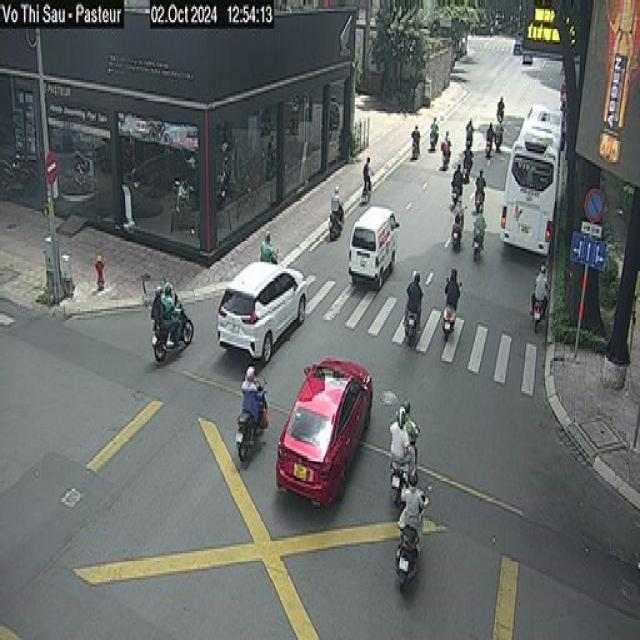bus: (498, 102, 562, 256)
car: (275, 356, 373, 506), (216, 260, 308, 362)
motorcycle: (388, 526, 438, 587), (150, 296, 194, 362), (235, 380, 267, 462), (382, 458, 419, 491), (441, 280, 461, 338), (530, 280, 549, 333), (324, 212, 349, 245), (402, 302, 418, 344), (447, 184, 466, 219), (447, 219, 465, 253), (458, 160, 478, 190), (470, 190, 490, 220), (471, 225, 484, 262), (478, 134, 495, 158), (437, 149, 452, 176), (426, 136, 443, 156), (489, 132, 505, 152), (495, 116, 510, 136), (408, 141, 422, 158), (464, 134, 478, 151)
person: (396, 469, 429, 555), (240, 364, 262, 434), (161, 282, 181, 347), (403, 269, 422, 333), (152, 284, 172, 342), (402, 399, 418, 469), (394, 406, 410, 473), (535, 268, 551, 314), (258, 229, 278, 262), (330, 182, 344, 227), (474, 202, 488, 246), (476, 164, 494, 196), (361, 156, 374, 200), (448, 267, 458, 321), (440, 129, 451, 169), (454, 197, 466, 233), (452, 168, 464, 204), (429, 115, 439, 149), (485, 120, 494, 156), (410, 124, 420, 156), (465, 118, 474, 146), (496, 96, 504, 122)
